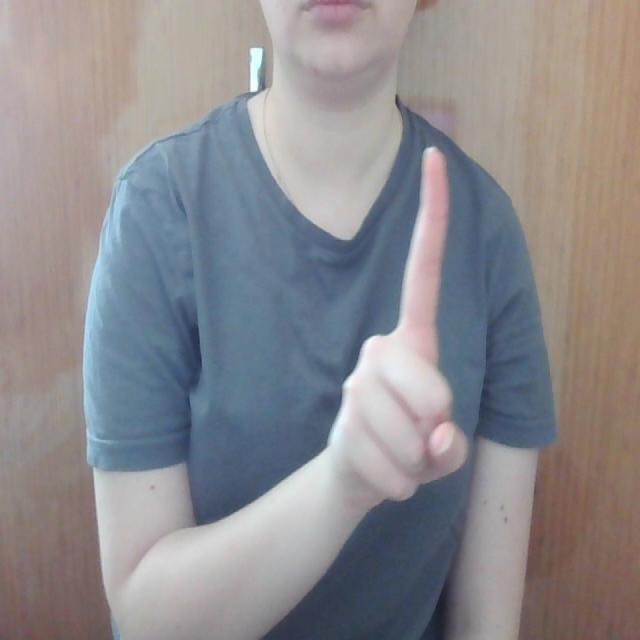Hayir: (323, 123, 480, 526)
